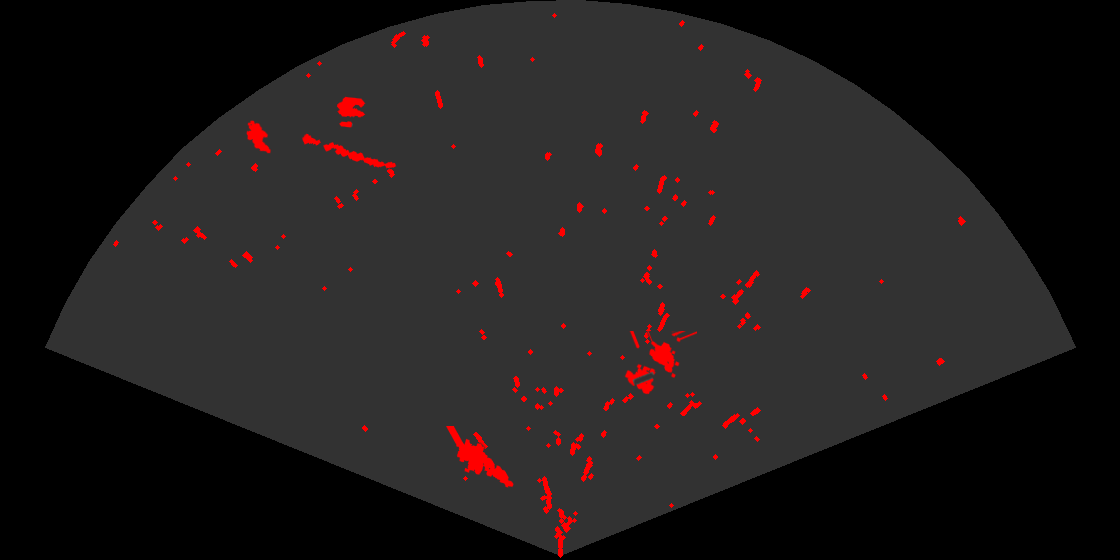AUV: (245, 119, 273, 155)
ball: (335, 95, 367, 129)
cage: (623, 331, 697, 396)
chain: (300, 132, 398, 170)
frogman: (445, 426, 515, 489)
